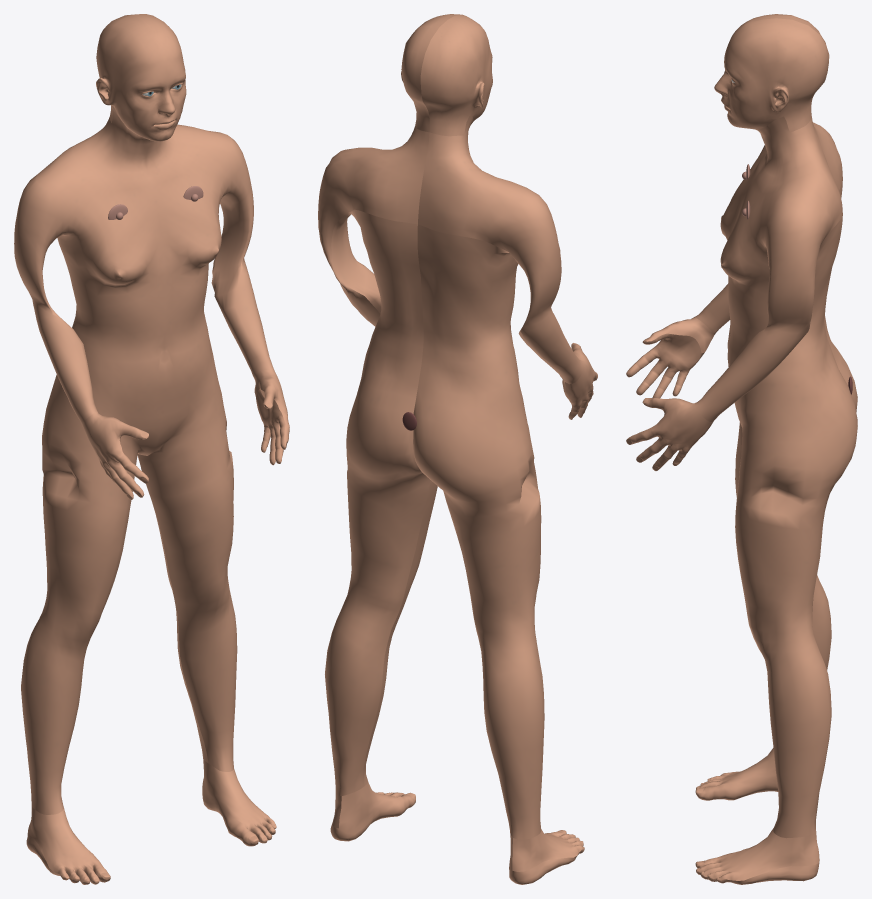
File: body-erwachsener-divers-unbekannt-brueste-real-v3.glb
3 renders of one model, left to right at view 1: azimuth 30°, elevation 25°; view 2: azimuth 150°, elevation 25°; view 3: azimuth 270°, elevation 25°, orthographic.
Parts seen in each view (by area): view 1: real-human-body; view 2: real-human-body; view 3: real-human-body.
Part boxes in pixels (<box>): real-human-body: <box>14,14,289,884</box>; real-human-body: <box>318,14,597,884</box>; real-human-body: <box>626,14,857,884</box>.
Bounding box in the file's own units: 0.5061 × 1.72 × 0.442.
7 materials, 1 textured.
